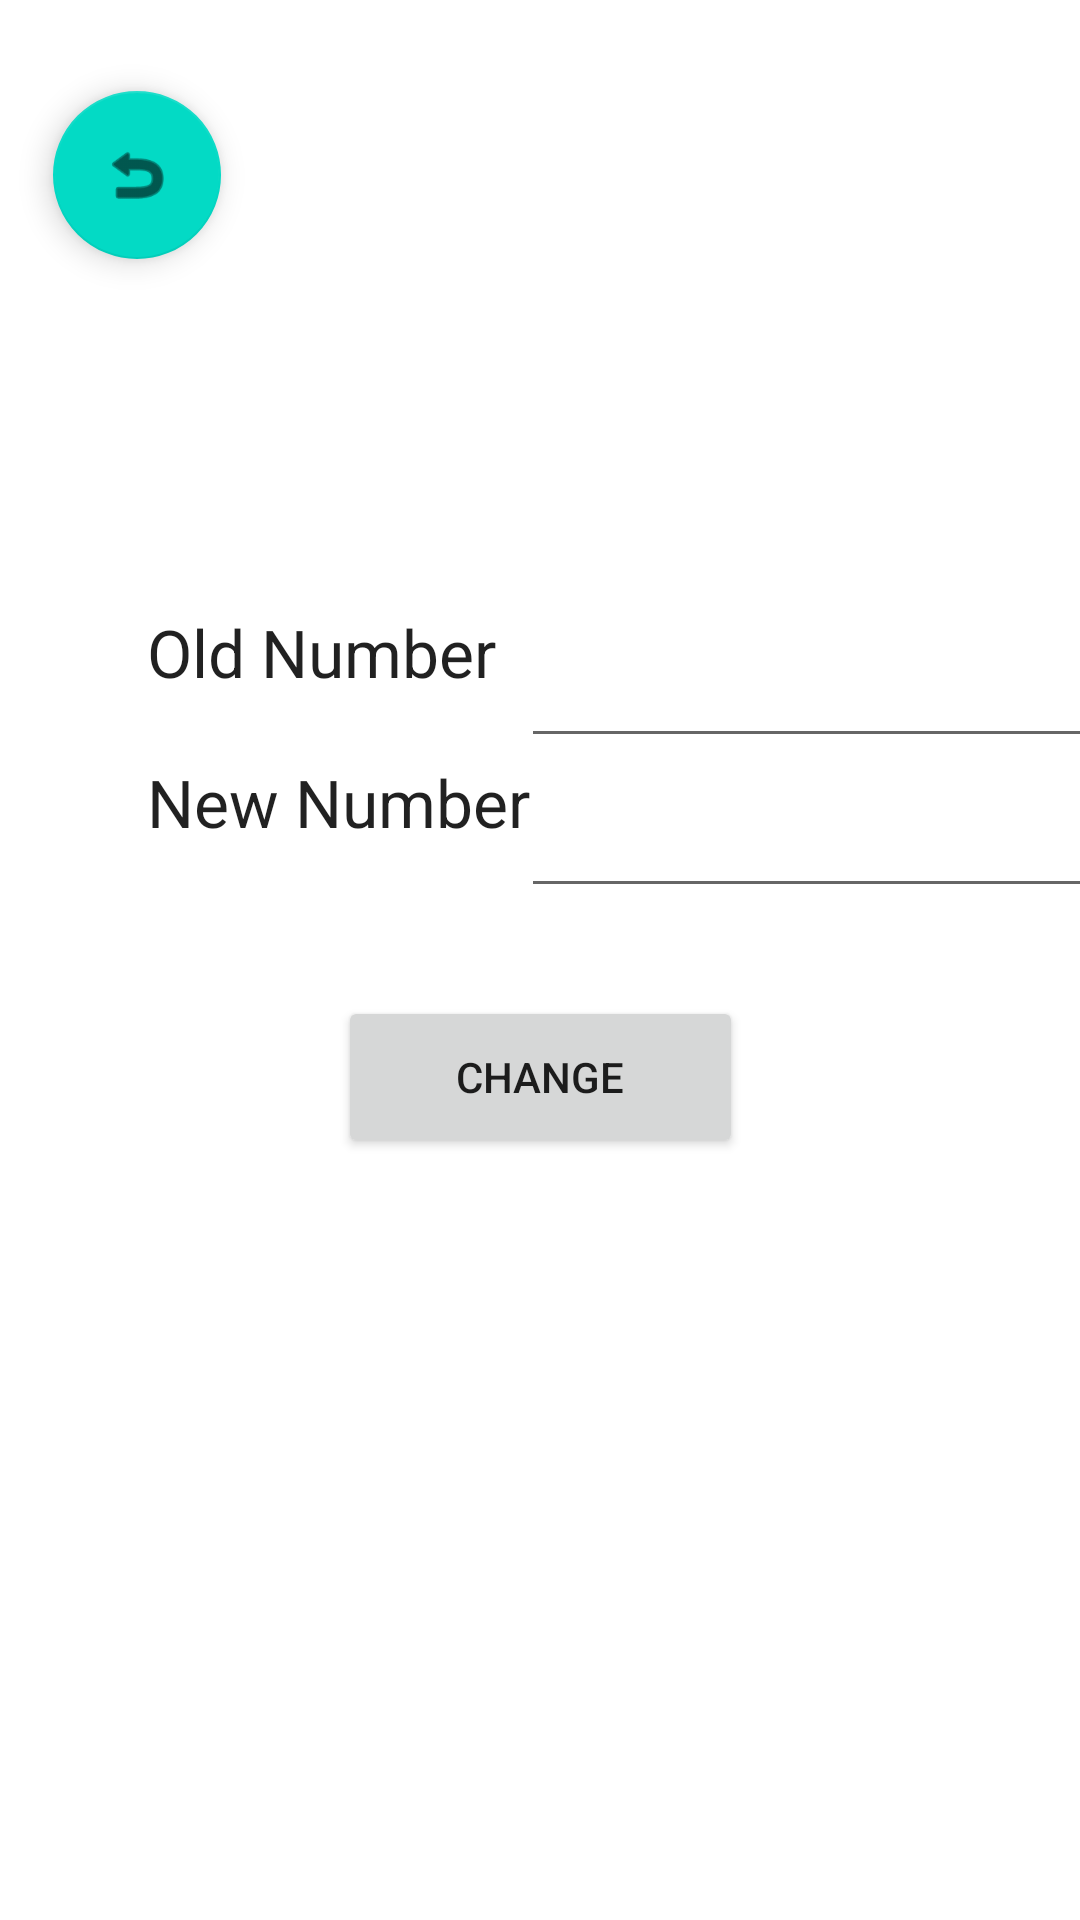

Icon bounding boxes for this 1080*1920 phone screenshot, format (x1, y1, x2, y2):
revert: (53, 91, 221, 259)
